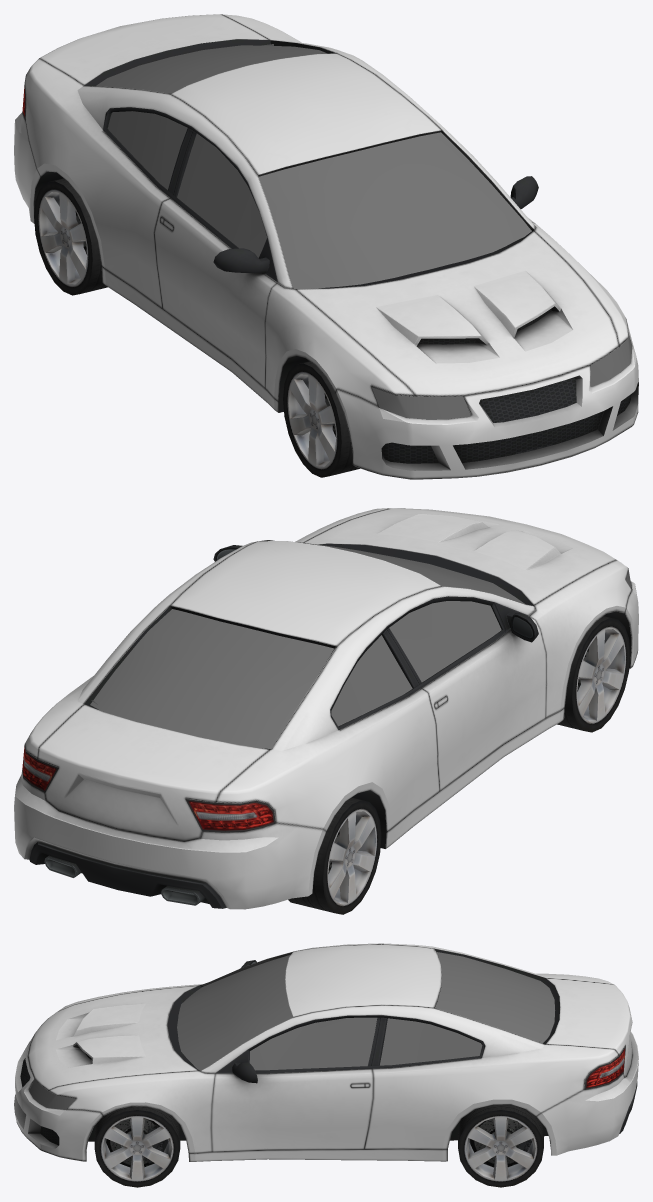
3 renders of one model, top to bottom at view 1: azimuth 30°, elevation 25°; view 2: azimuth 150°, elevation 25°; view 3: azimuth 270°, elevation 25°, orthographic. The views are drawn at different scales.
Parts seen in each view (by area): view 1: Body_30, Glass_30, Matte_30, Wheel_Back_R, Wheel_R, Glass_light; view 2: Body_30, Glass_30, Matte_30, Wheel_Back_R, Wheel_R, Taillights_30; view 3: Body_30, Glass_30, Matte_30, Wheel_Back_L, Wheel_L, Taillights_30, break_L, Glass_light.
Part boxes in pixels (x1,y1,x2,y2): Body_30: (14, 14, 638, 479); Glass_30: (96, 45, 531, 288); Matte_30: (34, 39, 631, 463); Wheel_Back_R: (34, 178, 107, 295); Wheel_R: (283, 361, 359, 477); Glass_light: (371, 330, 632, 419); Body_30: (14, 508, 638, 909); Glass_30: (90, 542, 524, 748); Matte_30: (29, 543, 632, 909); Wheel_Back_R: (288, 797, 381, 914); Wheel_R: (557, 616, 630, 732); Taillights_30: (22, 745, 275, 832); Body_30: (14, 943, 638, 1161); Glass_30: (177, 952, 555, 1070); Matte_30: (20, 949, 637, 1167); Wheel_Back_L: (458, 1104, 543, 1187); Wheel_L: (94, 1106, 180, 1187); Taillights_30: (584, 1046, 625, 1089); break_L: (106, 1118, 168, 1167); Glass_light: (29, 1079, 75, 1109).
Bounding box in the file's own units: 82.07 × 55.38 × 189.
